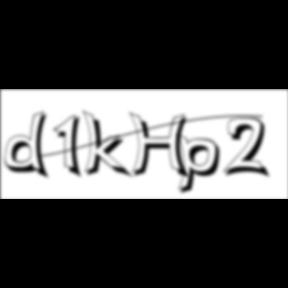1: (52, 114, 88, 182)
2: (224, 117, 274, 181)
H: (129, 112, 195, 182)
d: (5, 110, 55, 182)
k: (82, 108, 136, 181)
p: (177, 132, 227, 198)
